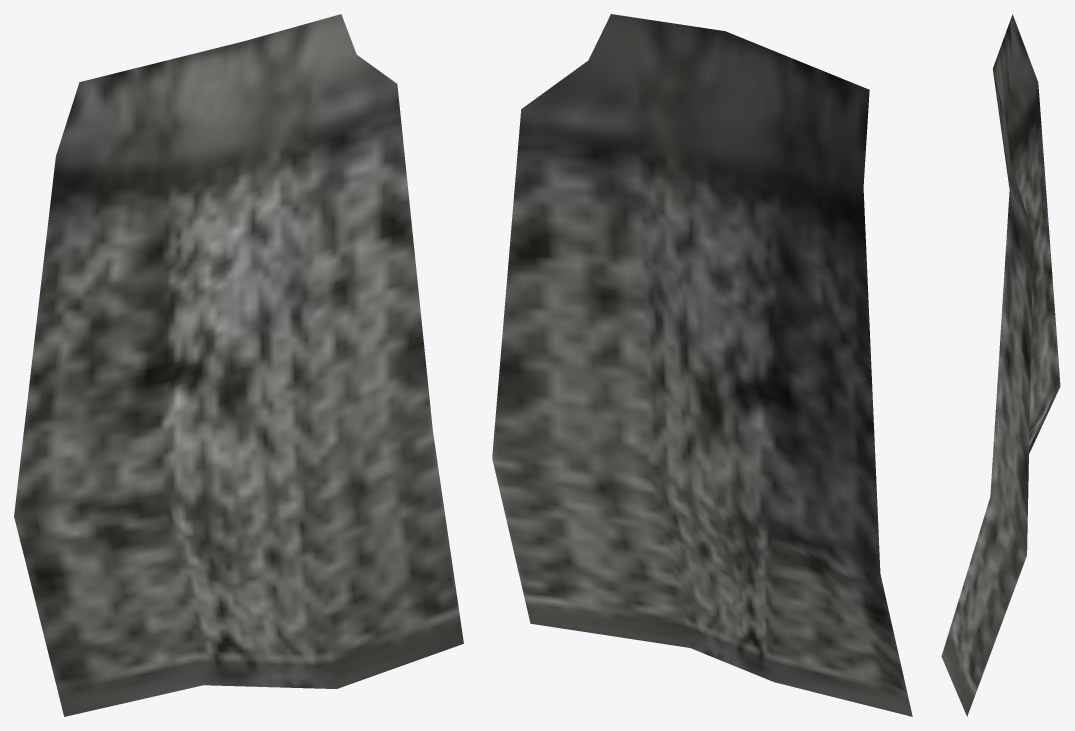
The picture shows the model from 3 angles, left to right: view 1: azimuth 30°, elevation 25°; view 2: azimuth 150°, elevation 25°; view 3: azimuth 270°, elevation 25°; orthographic projection. The views are drawn at different scales.
Parts seen in each view (by area): view 1: np1681; view 2: np1681; view 3: np1681.
Part boxes in pixels (x1,y1,x2,y2): np1681: [14, 14, 463, 716]; np1681: [492, 14, 912, 716]; np1681: [941, 14, 1060, 716].
Size of the model in its own units: 56.62 by 86.86 by 16.72.
